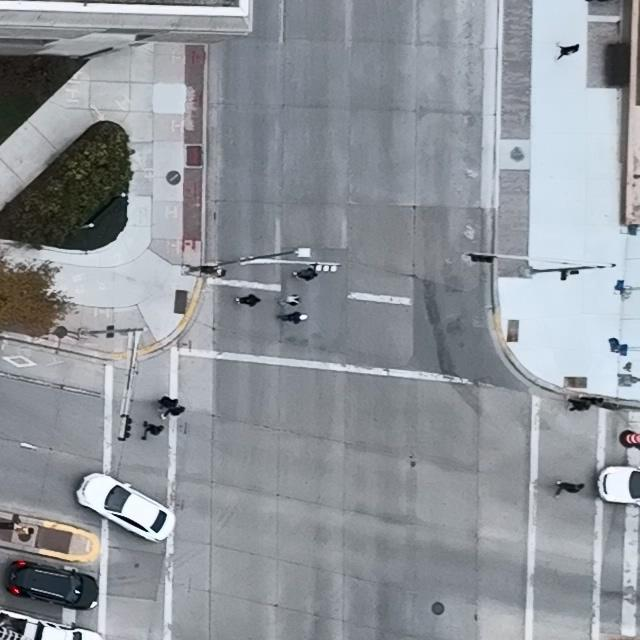car: (76, 472, 176, 541), (4, 560, 99, 611), (598, 466, 640, 508)
